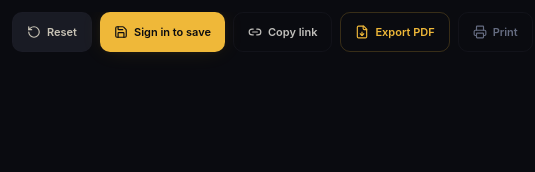
Test: ResetControls › copies a query-param share link for anonymous users
Click the button "Copy link": (283, 32) [233,12,332,52]
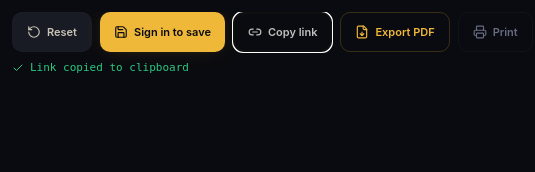
Expected: the text "Link copied to clipboard" is shown, [12,61,189,74]
